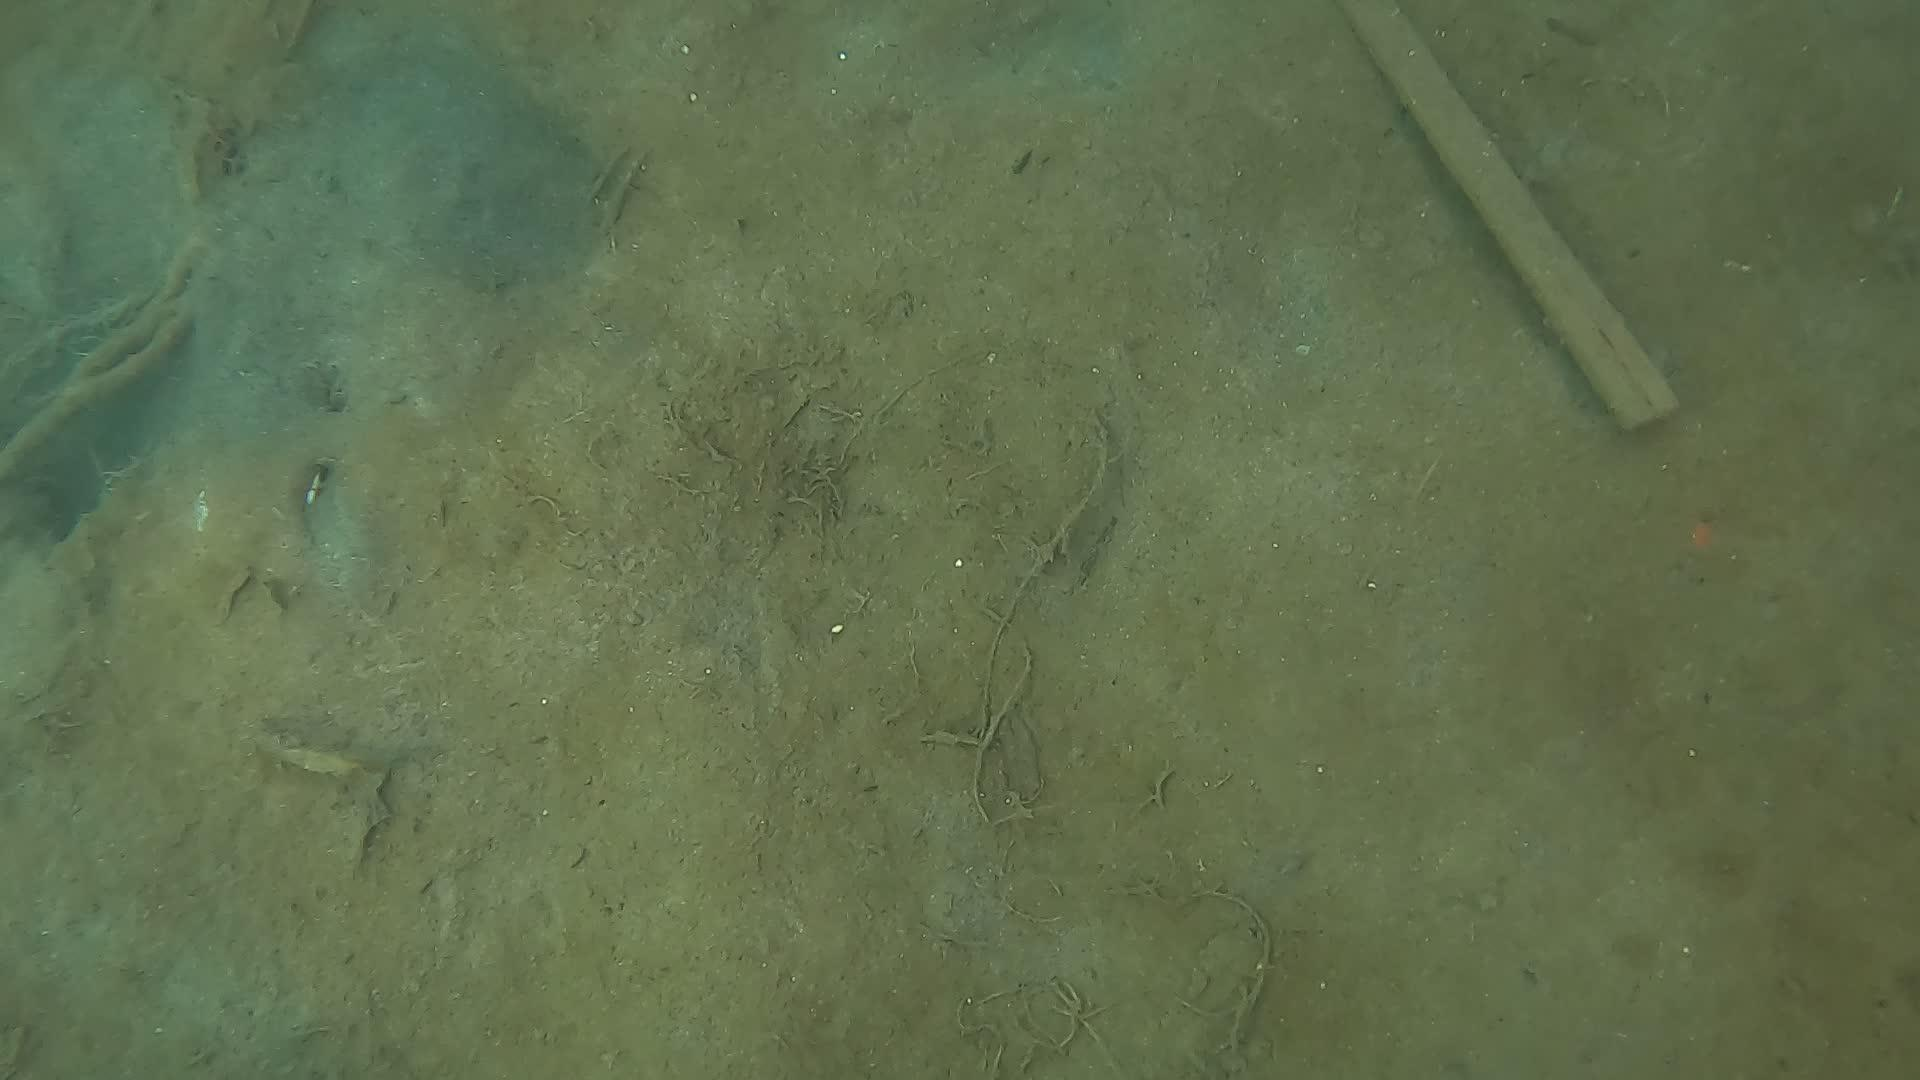wood: (1333, 0, 1677, 433)
